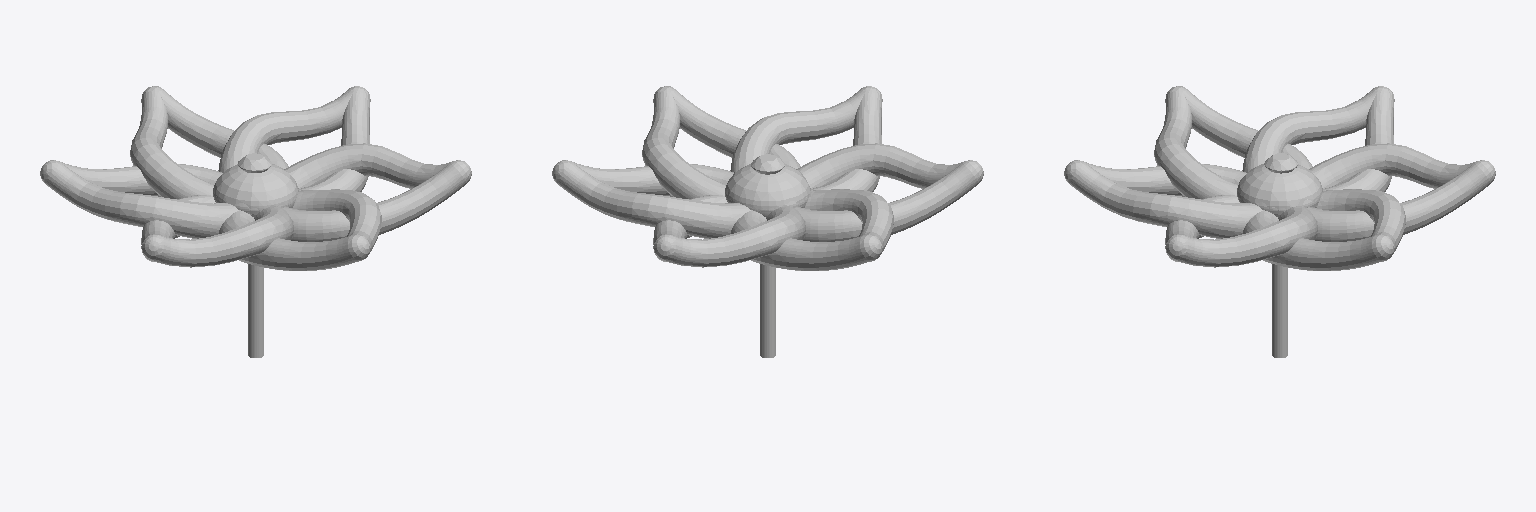
File: flower.obj
3 renders of one model, left to right at view 1: azimuth 30°, elevation 25°; view 2: azimuth 150°, elevation 25°; view 3: azimuth 270°, elevation 25°, orthographic.
Size of the model in its own units: 22.36 by 12.93 by 25.59.